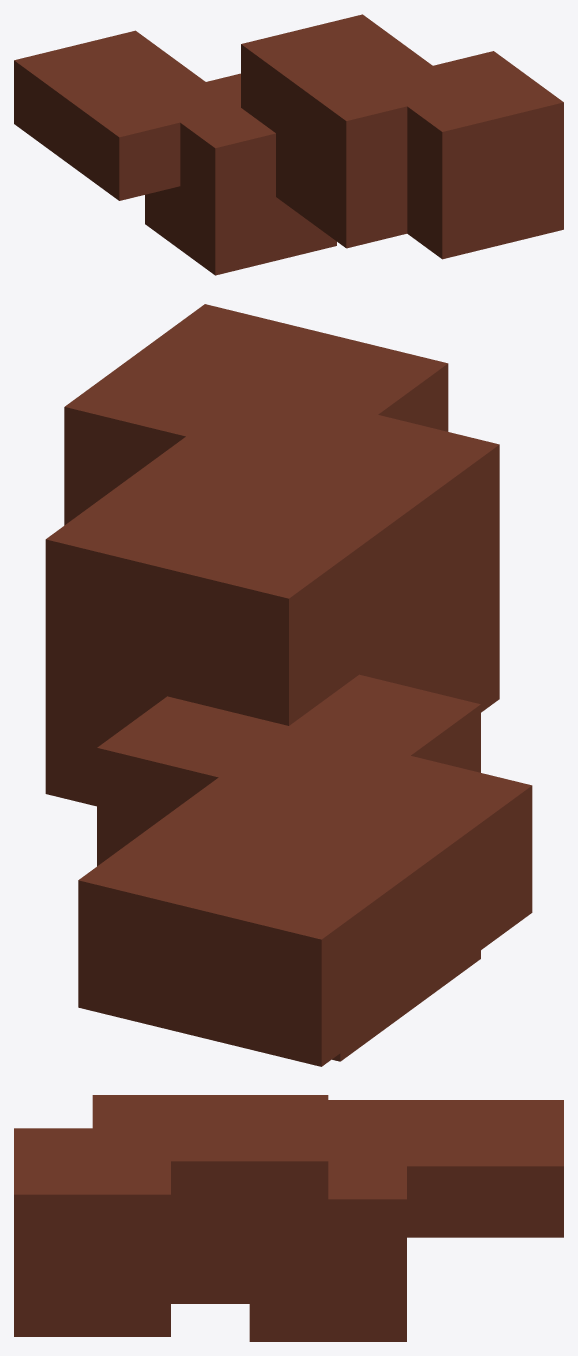
The model's file is Enemy1-10.obj.
The picture shows the model from 3 angles, top to bottom: view 1: azimuth 30°, elevation 25°; view 2: azimuth 150°, elevation 25°; view 3: azimuth 270°, elevation 25°; orthographic projection. The views are drawn at different scales.
Size of the model in its own units: 0.5 by 0.3 by 0.7.
1 material, 1 textured.
